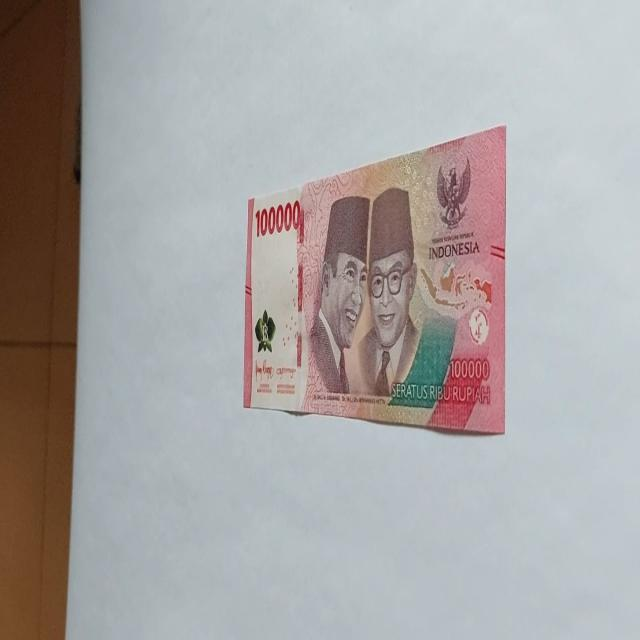seratus ribu rupiah: (242, 124, 508, 436), (356, 185, 422, 398)
